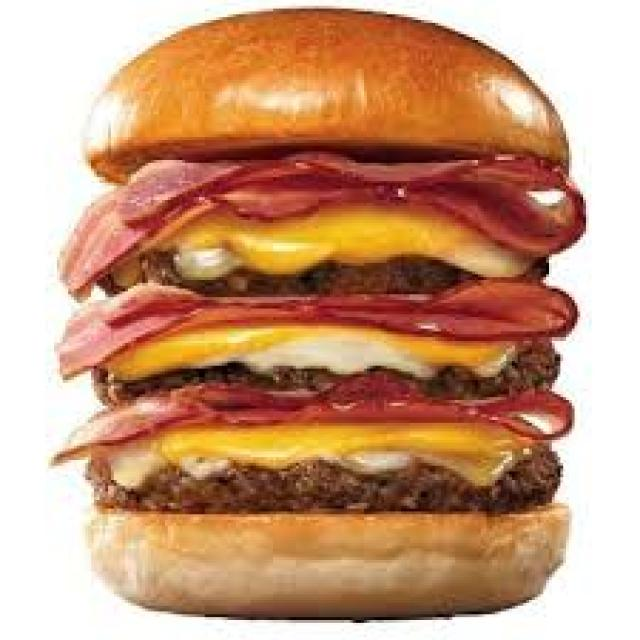Wet Waste: (73, 23, 584, 620)
